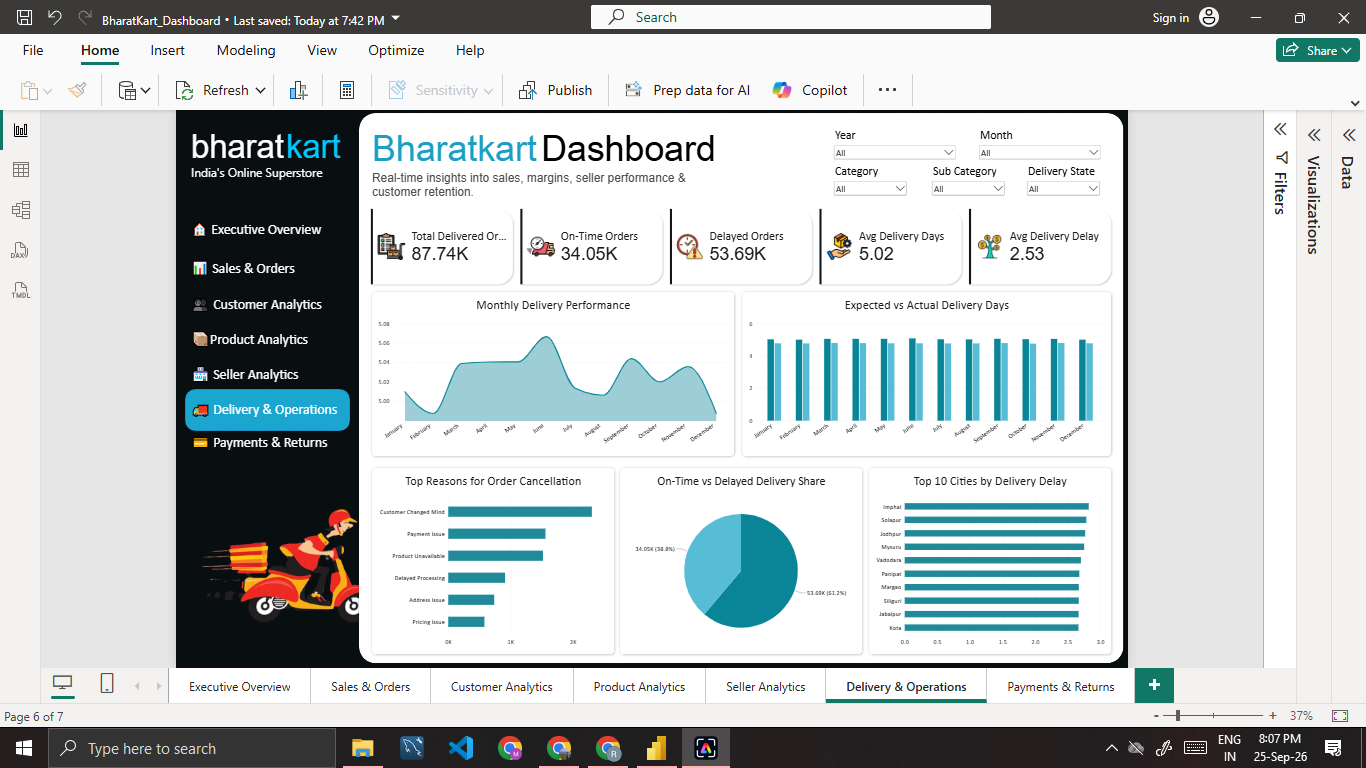

Layout of this report page (visuals, bound fields, positions):
{"tool":"powerbi","page":{"name":"Delivery & Operations","canvas":[2560,1500],"ordinal":5},"visuals":[{"type":"shape","box":[493.1,8.9,2055.1,1479.3],"z":0},{"type":"textbox","box":[41.3,47.2,286.4,103.3],"z":1000},{"type":"textbox","box":[295.3,47.2,171.3,103.3],"z":2000},{"type":"textbox","box":[41.3,144.7,386.8,53.1],"z":3000},{"type":"image","box":[0,986.2,564,475.4],"z":4000},{"type":"textbox","box":[981.2,34.9,489.2,129],"z":5000},{"type":"textbox","box":[526.9,34.9,454.3,129],"z":6000},{"type":"textbox","box":[526.9,164,865.6,80.6],"z":7000},{"type":"slicer","fields":{"Values":["Calendar.Year"]},"box":[1762.8,47.2,336.6,118.1],"z":8000},{"type":"slicer","fields":{"Values":["products.category"]},"box":[1762.8,144.7,206.5,118.4],"z":9000},{"type":"slicer","fields":{"Values":["Calendar.Month"]},"box":[2152.6,47.2,336.6,118.1],"z":10000},{"type":"slicer","fields":{"Values":["products.sub_category"]},"box":[2025.6,144.7,206.5,118.4],"z":11000},{"type":"slicer","fields":{"Values":["orders.delivery_state"]},"box":[2282.3,145.2,206.5,118.4],"z":12000},{"type":"cardVisual","fields":{"Data":["DAX.Total Delivered Orders","DAX.On-Time Orders","DAX.Delayed Orders","DAX.Avg Delivery Days","DAX.Avg Delivery Delay"]},"box":[502.7,244.6,2034.4,245.1],"z":13000},{"type":"shape","box":[24.2,750,443.5,112.9],"z":14000},{"type":"textbox","box":[40.3,293,366.1,65],"z":15000},{"type":"textbox","box":[40.3,397.8,365.6,53.8],"z":16000},{"type":"textbox","box":[40.3,682.8,366.1,65],"z":17000},{"type":"textbox","box":[40.3,494.6,365.6,53.8],"z":18000},{"type":"textbox","box":[40.3,588.7,365.6,51.1],"z":19000},{"type":"textbox","box":[40.3,776.9,424.7,59.1],"z":20000},{"type":"textbox","box":[40.3,865.6,425.2,65],"z":21000},{"type":"lineChart","title":"Monthly Delivery Performance","fields":{"Category":["Calendar.Month"],"Y":["DAX.Avg Delivery Days"]},"box":[526.9,489.2,973.1,440.9],"z":22000},{"type":"clusteredColumnChart","title":"Expected vs Actual Delivery Days","fields":{"Category":["Calendar.Month"],"Y":["DAX.Avg Delivery Days","DAX.Avg Expected Delivery Days"]},"box":[1521.5,489.2,991.9,440.9],"z":23000},{"type":"pieChart","title":"On-Time vs Delayed Delivery Share","fields":{"Y":["DAX.Delayed Orders","DAX.On-Time Orders"]},"box":[1193.5,962.4,650.5,500],"z":24000},{"type":"barChart","title":"Top 10 Cities by Delivery Delay","fields":{"Category":["orders.delivery_city"],"Y":["DAX.Avg Delivery Delay"]},"box":[1862.9,962.4,650.5,500],"z":25000},{"type":"barChart","title":"Top Reasons for Order Cancellation","fields":{"Category":["orders.cancellation_reason"],"Y":["DAX.Total Orders"]},"box":[525.8,963.4,650.5,500],"z":26000}]}

Visuals, with their boxes on the page's 2560x1500 design canvas (x1, y1, x2, y2). These are canvas units, not pixel positions in the 1366x768 screenshot, which may show the page scaled, cropped or inside an application window:
shape: x1=493, y1=9, x2=2548, y2=1488
textbox: x1=41, y1=47, x2=328, y2=150
textbox: x1=295, y1=47, x2=467, y2=150
textbox: x1=41, y1=145, x2=428, y2=198
image: x1=0, y1=986, x2=564, y2=1462
textbox: x1=981, y1=35, x2=1470, y2=164
textbox: x1=527, y1=35, x2=981, y2=164
textbox: x1=527, y1=164, x2=1392, y2=245
slicer - Calendar.Year: x1=1763, y1=47, x2=2099, y2=165
slicer - products.category: x1=1763, y1=145, x2=1969, y2=263
slicer - Calendar.Month: x1=2153, y1=47, x2=2489, y2=165
slicer - products.sub_category: x1=2026, y1=145, x2=2232, y2=263
slicer - orders.delivery_state: x1=2282, y1=145, x2=2489, y2=264
cardVisual - DAX.Total Delivered Orders x DAX.On-Time Orders: x1=503, y1=245, x2=2537, y2=490
shape: x1=24, y1=750, x2=468, y2=863
textbox: x1=40, y1=293, x2=406, y2=358
textbox: x1=40, y1=398, x2=406, y2=452
textbox: x1=40, y1=683, x2=406, y2=748
textbox: x1=40, y1=495, x2=406, y2=548
textbox: x1=40, y1=589, x2=406, y2=640
textbox: x1=40, y1=777, x2=465, y2=836
textbox: x1=40, y1=866, x2=466, y2=931
"Monthly Delivery Performance" lineChart: x1=527, y1=489, x2=1500, y2=930
"Expected vs Actual Delivery Days" clusteredColumnChart: x1=1522, y1=489, x2=2513, y2=930
"On-Time vs Delayed Delivery Share" pieChart: x1=1194, y1=962, x2=1844, y2=1462
"Top 10 Cities by Delivery Delay" barChart: x1=1863, y1=962, x2=2513, y2=1462
"Top Reasons for Order Cancellation" barChart: x1=526, y1=963, x2=1176, y2=1463
